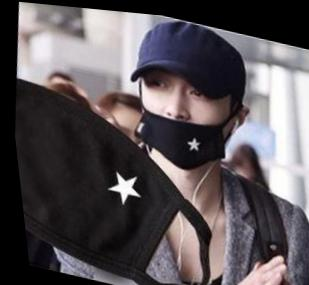WRONG: (127, 61, 241, 173)
